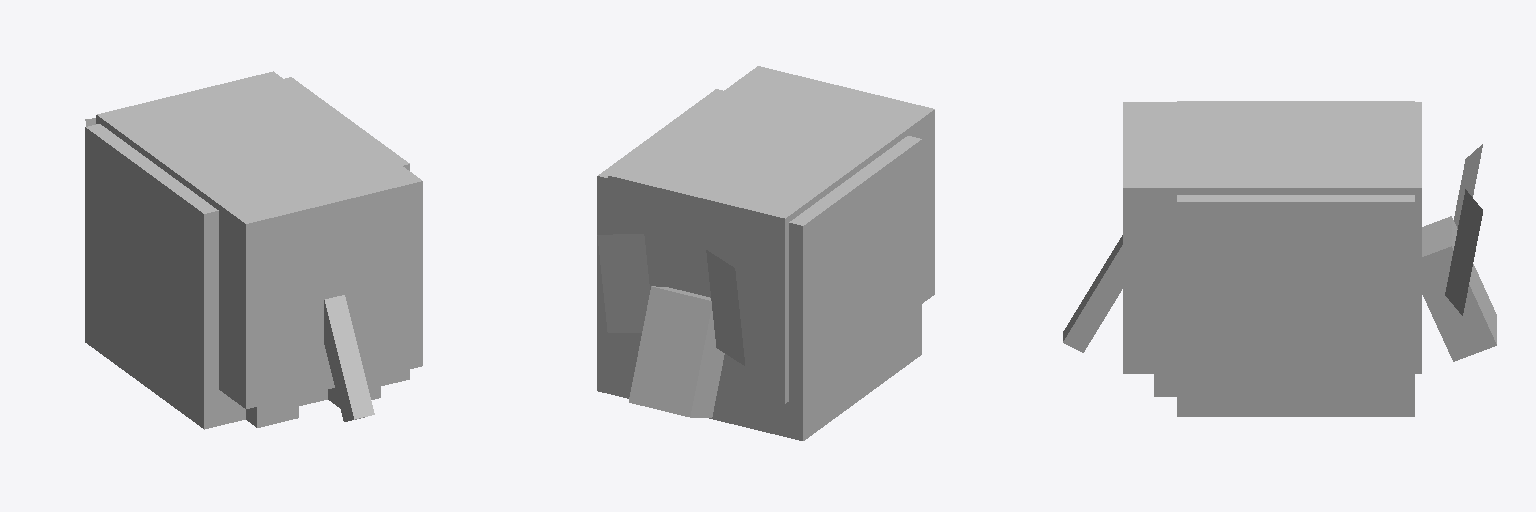
Rendered from mobs_mc_armadillo.obj.
3 views of the same model, side by side, from view 1: azimuth 30°, elevation 25°; view 2: azimuth 150°, elevation 25°; view 3: azimuth 270°, elevation 25° (orthographic).
Parts seen in each view (by area): view 1: body, body_rolled_up, tail, left_hind_leg; view 2: body, body_rolled_up, head, right_ear, left_ear; view 3: body_rolled_up, body, head, tail, right_ear, left_ear, right_hind_leg.
Part boxes in pixels (x1,y1,x2,y2): body: (96,71,422,408); body_rolled_up: (85,77,409,429); tail: (324,295,374,421); left_hind_leg: (246,397,298,427); body: (608,66,934,403); body_rolled_up: (597,89,921,440); head: (629,286,724,417); right_ear: (597,234,649,332); left_ear: (706,250,744,365); body_rolled_up: (1177,101,1414,416); body: (1123,102,1421,373); head: (1422,216,1496,361); tail: (1063,235,1122,352); right_ear: (1445,189,1482,315); left_ear: (1454,144,1482,228); right_hind_leg: (1154,374,1176,396).
Bounding box in the file's own units: 0.625 × 0.6438 × 1.14.